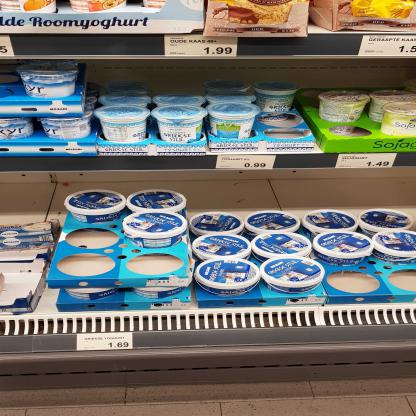prtg: (166, 35, 239, 58), (359, 37, 416, 58), (78, 333, 134, 352), (336, 154, 398, 169), (216, 156, 277, 170), (1, 36, 16, 58)
